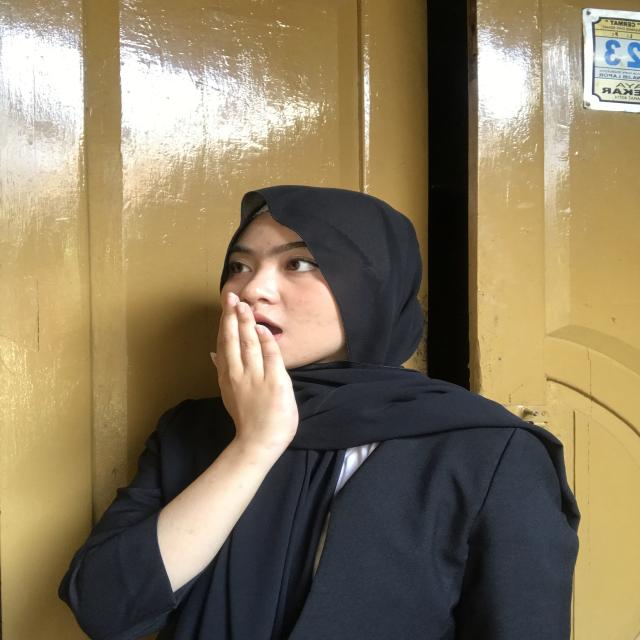ngantuk: (168, 288, 314, 468)
